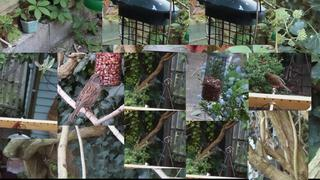dunnock: (68, 73, 104, 122)
robin: (263, 73, 291, 92)
